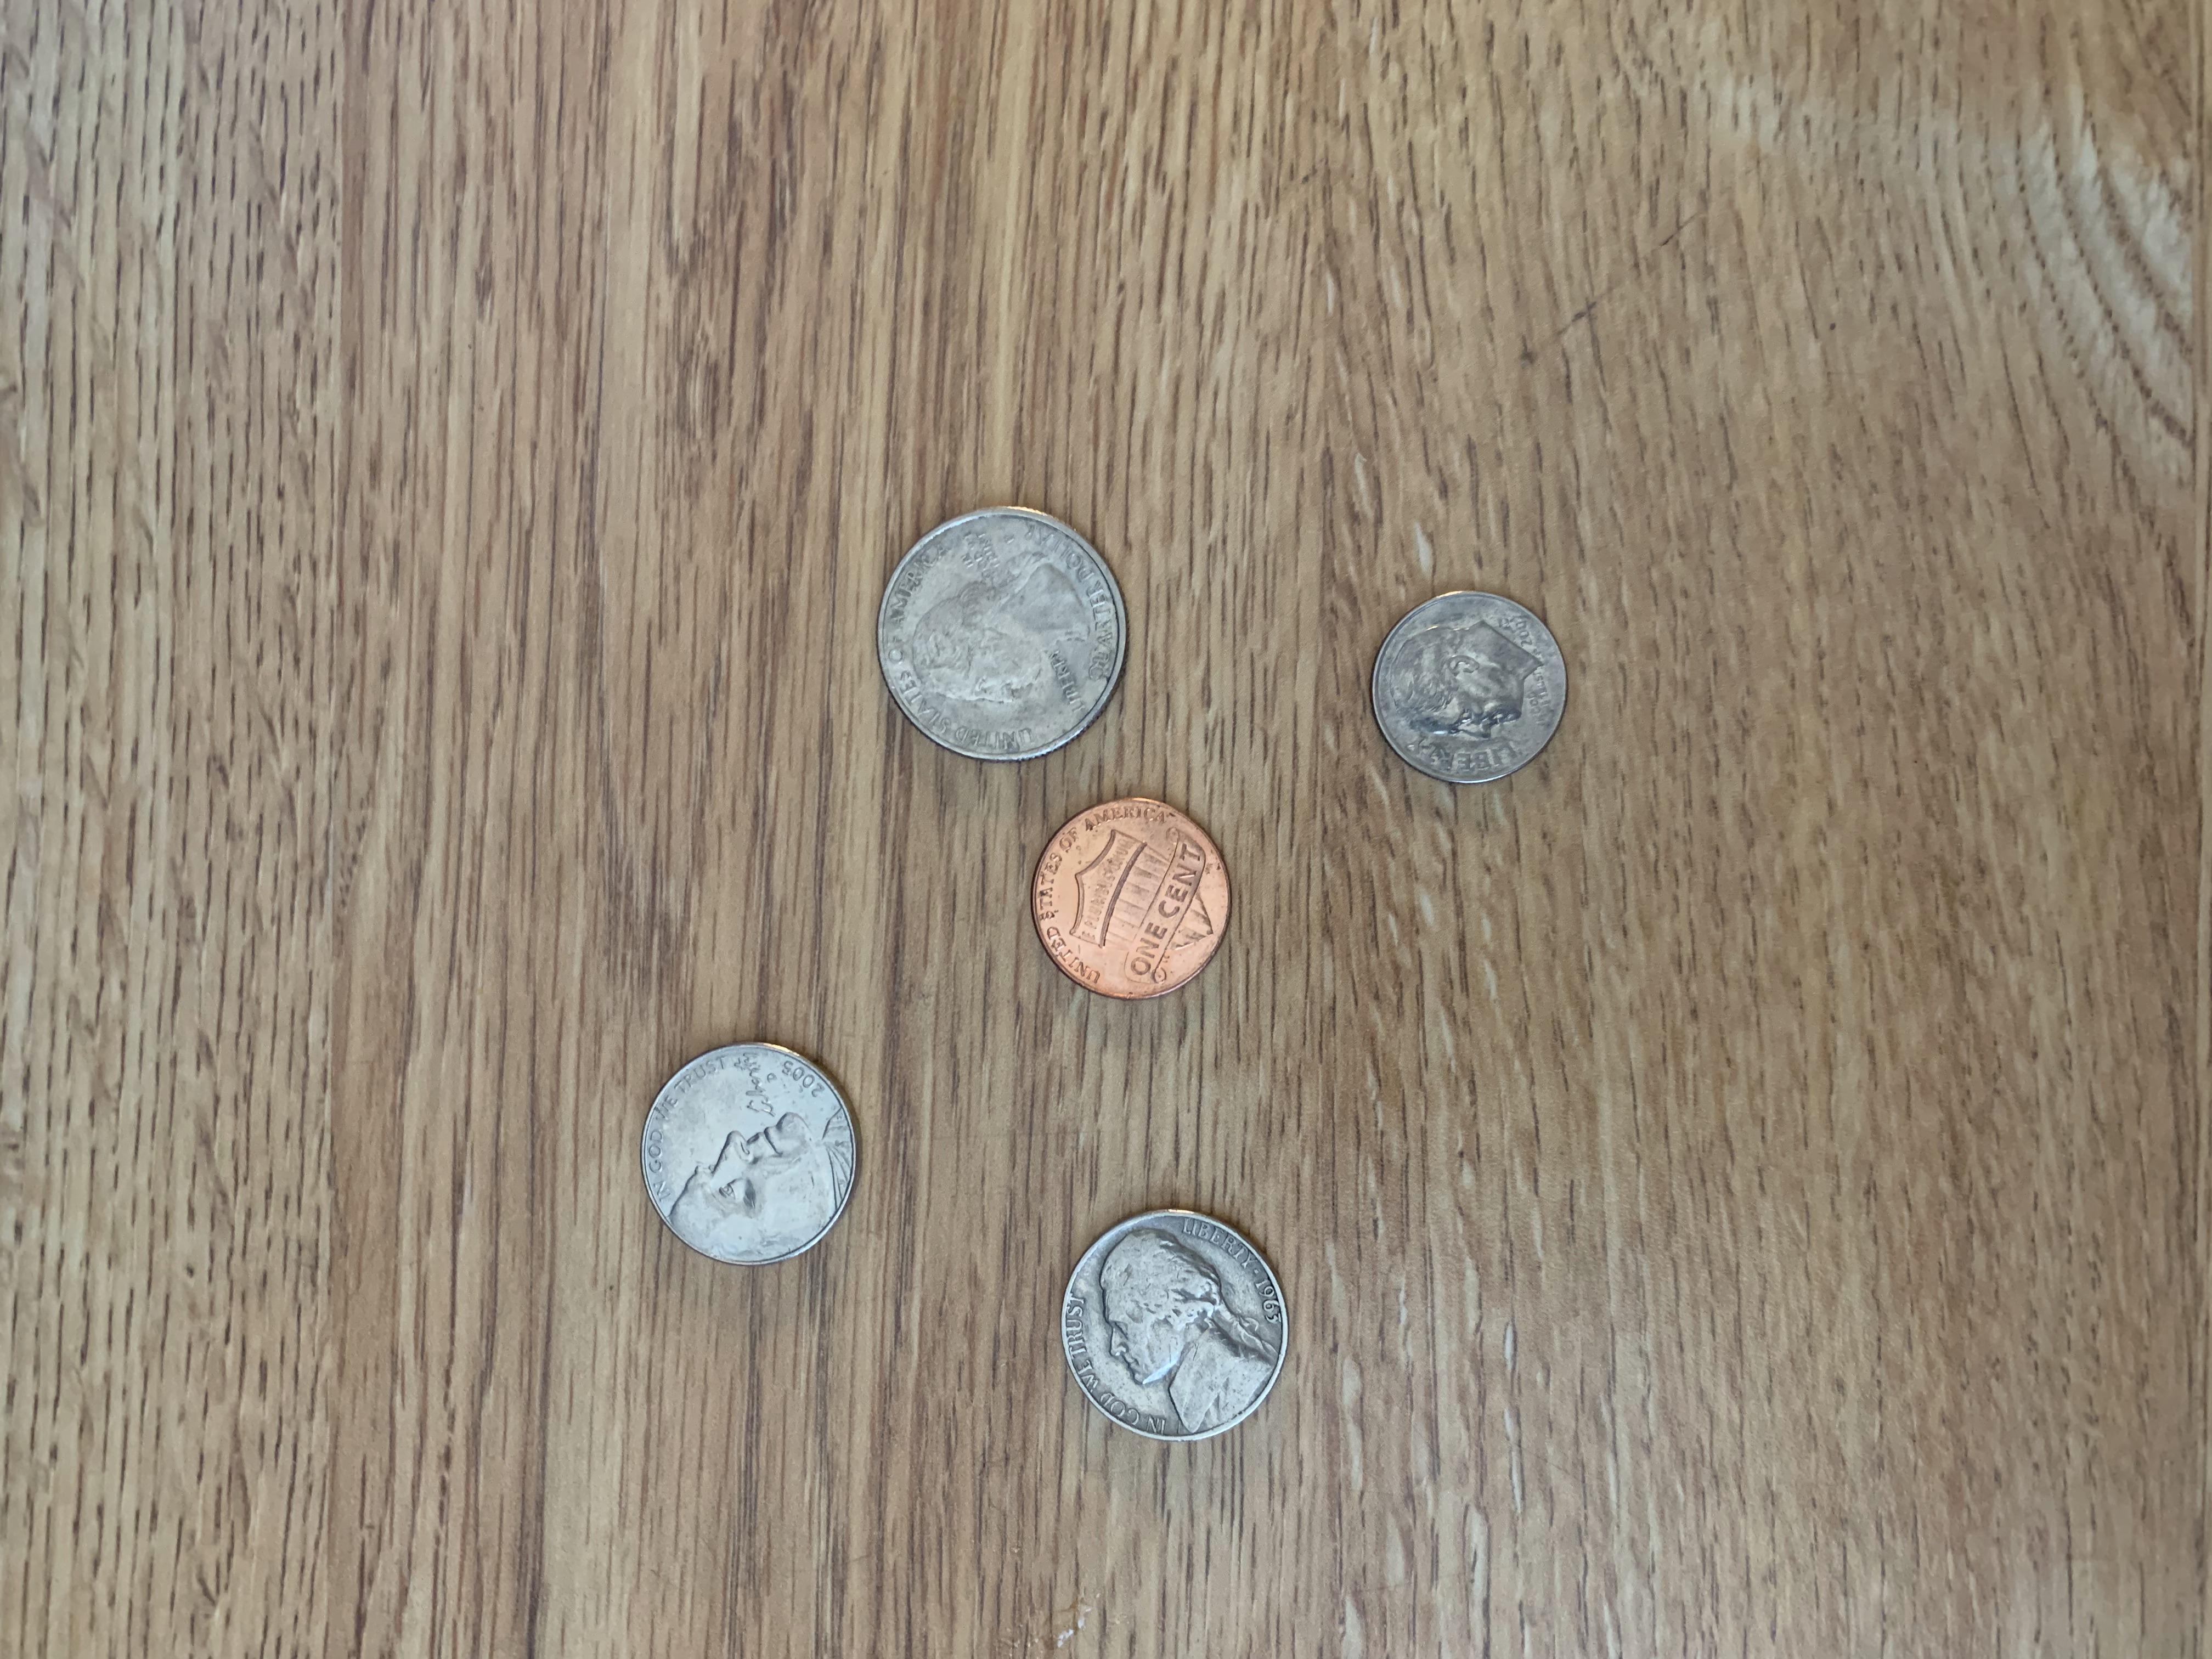Dime: (1362, 580, 1576, 793)
Nickel: (1052, 1199, 1298, 1450), (631, 1035, 862, 1269)
Penny: (1021, 788, 1235, 1004)
Quarter: (860, 497, 1137, 769)
